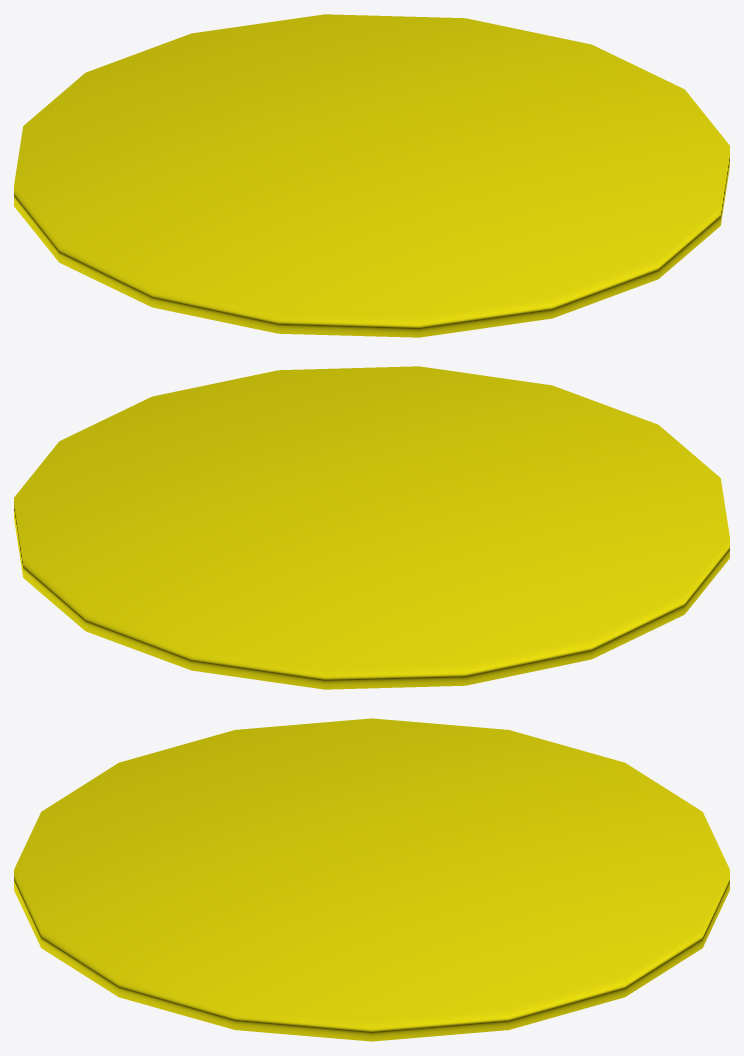
File: Coin.fbx
3 views of the same model, one above another, from view 1: azimuth 30°, elevation 25°; view 2: azimuth 150°, elevation 25°; view 3: azimuth 270°, elevation 25° (orthographic).
Visible parts, largest first — view 1: Coin; view 2: Coin; view 3: Coin.
Part boxes in pixels (bbox=[...]): Coin: bbox=[14, 14, 729, 337]; Coin: bbox=[14, 366, 729, 689]; Coin: bbox=[14, 718, 729, 1041].
Size of the model in its own units: 200 by 6.35 by 200.
